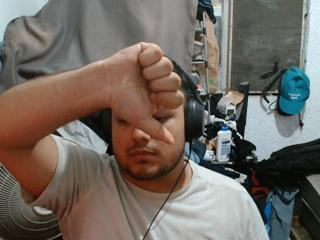Atras: (89, 29, 193, 157)
